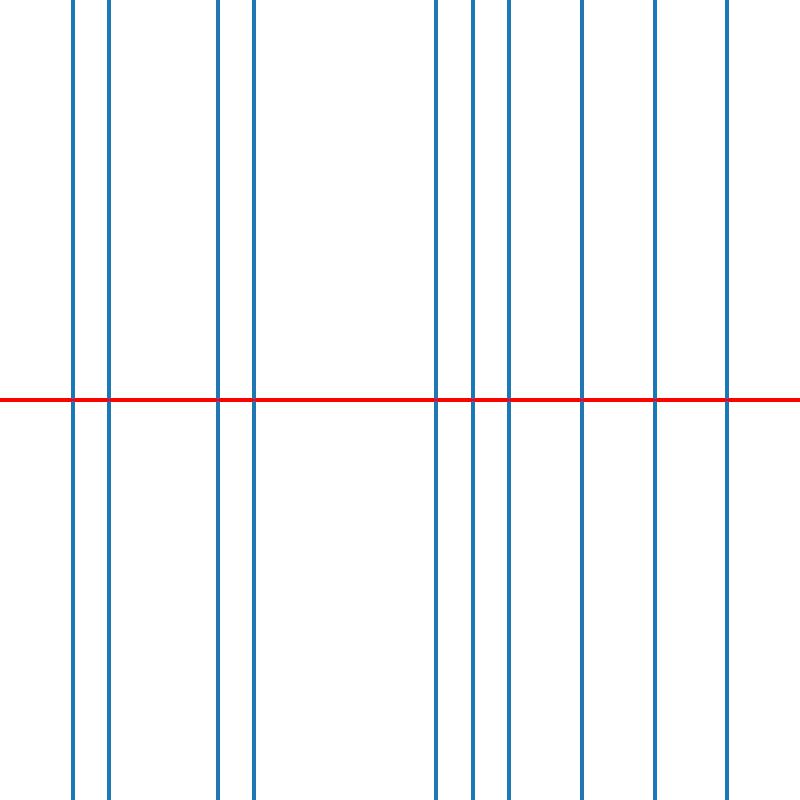root: (432, 396, 440, 404), (250, 396, 258, 404), (650, 396, 658, 404), (505, 396, 512, 404), (69, 396, 76, 404), (469, 396, 476, 404), (214, 396, 221, 404), (723, 396, 730, 404), (578, 396, 585, 404), (105, 396, 112, 404)
